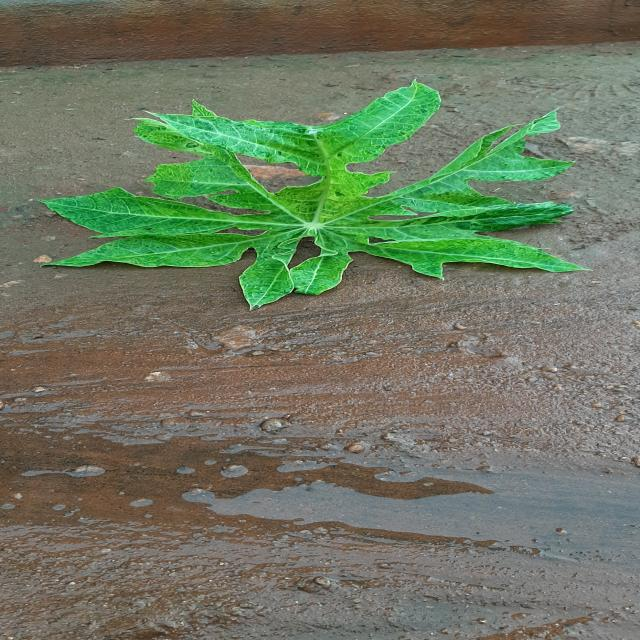papaya: (43, 82, 580, 308)
